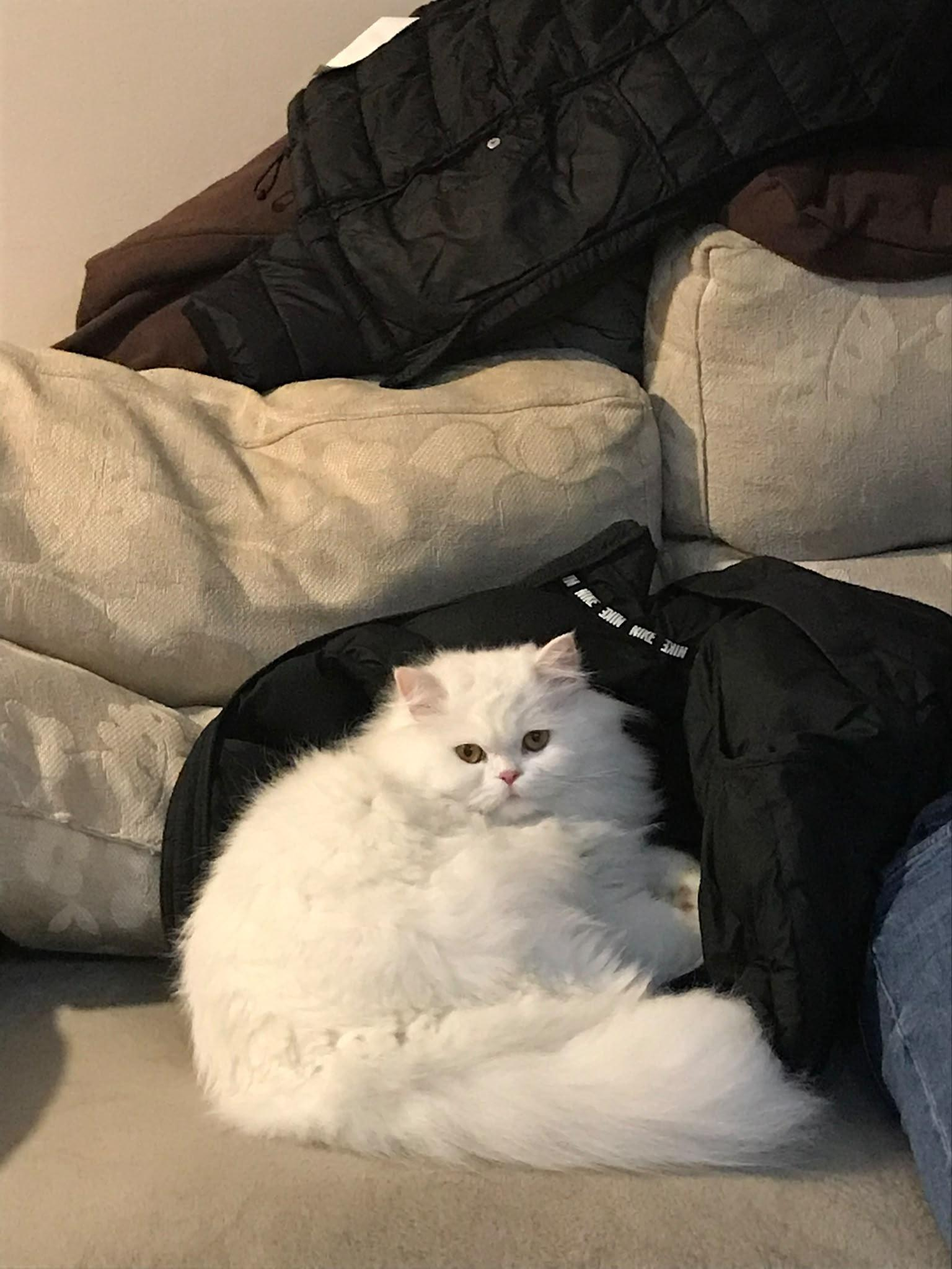macka: (170, 626, 831, 1169)
